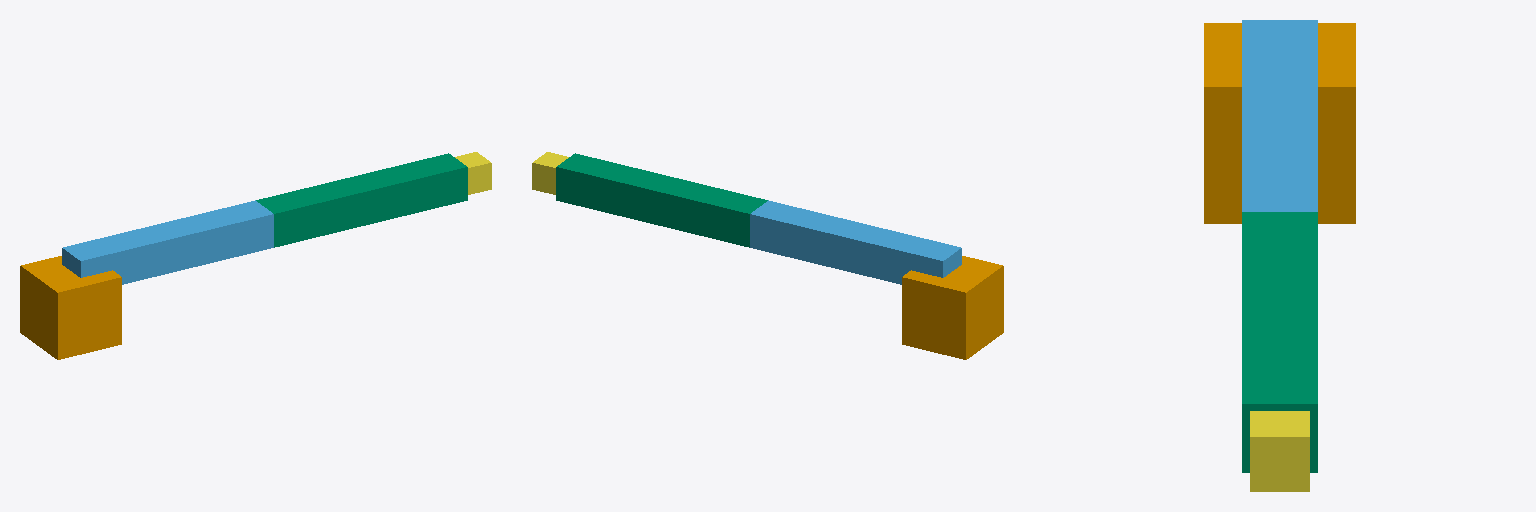
robot.urdf — test_arm:
<?xml version="1.0" ?>
<!-- Minimal fixed-base 3-DOF arm for the fixed-base robot tests (asset.fix_base_link=True).

     Chain: base_link -> shoulder_joint (hinge, z) -> link1 -> elbow_joint (hinge, y) -> link2
            -> slide_joint (prismatic, x) -> slider.
     base_link is the welded URDF root with no joint to the world.
     The matching MJCF root body is jointless (see test_arm.xml). Link order here equals the MJCF
     DFS body order: [base_link, link1, link2, slider]; joint order [shoulder_joint, elbow_joint,
     slide_joint]. Joint limits/effort/velocity equal the test_arm_fixed preset lists exactly.

     base_link is a 0.1 m cube from z=0 to z=0.1 in its own frame; the arm leaves the shoulder at
     z=0.1 and points along +x, so at the zero pose the tip sits ~0.63 m from the base origin and
     drops under gravity (elbow) when unactuated. All inertias are the analytic box values MuJoCo
     derives from the same geoms in test_arm.xml. -->
<robot name="test_arm">
  <link name="base_link">
    <inertial>
      <origin xyz="0 0 0.05"/>
      <mass value="2.0"/>
      <inertia ixx="0.0033333" ixy="0" ixz="0" iyy="0.0033333" iyz="0" izz="0.0033333"/>
    </inertial>
    <visual>
      <origin rpy="0 0 0" xyz="0 0 0.05"/>
      <geometry><box size="0.1 0.1 0.1"/></geometry>
    </visual>
    <collision>
      <origin rpy="0 0 0" xyz="0 0 0.05"/>
      <geometry><box size="0.1 0.1 0.1"/></geometry>
    </collision>
  </link>

  <joint name="shoulder_joint" type="revolute">
    <parent link="base_link"/>
    <child link="link1"/>
    <origin rpy="0 0 0" xyz="0 0 0.1"/>
    <axis xyz="0 0 1"/>
    <limit lower="-1.5" upper="1.5" effort="20" velocity="10"/>
  </joint>

  <link name="link1">
    <inertial>
      <origin xyz="0.15 0 0"/>
      <mass value="1.0"/>
      <inertia ixx="0.00041667" ixy="0" ixz="0" iyy="0.0077083" iyz="0" izz="0.0077083"/>
    </inertial>
    <visual>
      <origin rpy="0 0 0" xyz="0.15 0 0"/>
      <geometry><box size="0.3 0.05 0.05"/></geometry>
    </visual>
    <collision>
      <origin rpy="0 0 0" xyz="0.15 0 0"/>
      <geometry><box size="0.3 0.05 0.05"/></geometry>
    </collision>
  </link>

  <joint name="elbow_joint" type="revolute">
    <parent link="link1"/>
    <child link="link2"/>
    <origin rpy="0 0 0" xyz="0.3 0 0"/>
    <axis xyz="0 1 0"/>
    <limit lower="-1.5" upper="1.5" effort="20" velocity="10"/>
  </joint>

  <link name="link2">
    <inertial>
      <origin xyz="0.15 0 0"/>
      <mass value="1.0"/>
      <inertia ixx="0.00041667" ixy="0" ixz="0" iyy="0.0077083" iyz="0" izz="0.0077083"/>
    </inertial>
    <visual>
      <origin rpy="0 0 0" xyz="0.15 0 0"/>
      <geometry><box size="0.3 0.05 0.05"/></geometry>
    </visual>
    <collision>
      <origin rpy="0 0 0" xyz="0.15 0 0"/>
      <geometry><box size="0.3 0.05 0.05"/></geometry>
    </collision>
  </link>

  <joint name="slide_joint" type="prismatic">
    <parent link="link2"/>
    <child link="slider"/>
    <origin rpy="0 0 0" xyz="0.3 0 0"/>
    <axis xyz="1 0 0"/>
    <limit lower="0.0" upper="0.05" effort="50" velocity="1"/>
  </joint>

  <link name="slider">
    <inertial>
      <origin xyz="0.02 0 0"/>
      <mass value="0.1"/>
      <inertia ixx="0.000026667" ixy="0" ixz="0" iyy="0.000026667" iyz="0" izz="0.000026667"/>
    </inertial>
    <visual>
      <origin rpy="0 0 0" xyz="0.02 0 0"/>
      <geometry><box size="0.04 0.04 0.04"/></geometry>
    </visual>
    <collision>
      <origin rpy="0 0 0" xyz="0.02 0 0"/>
      <geometry><box size="0.04 0.04 0.04"/></geometry>
    </collision>
  </link>
</robot>

--- Facts derived from the render (not from the file) ---
3 views of the same robot in one strip: view 1: azimuth 30°, elevation 25°; view 2: azimuth 150°, elevation 25°; view 3: azimuth 270°, elevation 25° (orthographic).
Model test_arm with 4 links and 3 joints (2 revolute, 1 prismatic), rooted at base_link, posed all joints at 0.
Links seen in each view (by area): view 1: link2, link1, base_link, slider; view 2: link2, link1, base_link, slider; view 3: link2, base_link, link1, slider.
Boxes of the visible links, x1=… form: link2: x1=256, y1=153, x2=467, y2=247; link1: x1=62, y1=200, x2=273, y2=284; base_link: x1=20, y1=256, x2=121, y2=359; slider: x1=455, y1=152, x2=491, y2=194; link2: x1=556, y1=153, x2=767, y2=247; link1: x1=750, y1=200, x2=961, y2=284; base_link: x1=902, y1=256, x2=1003, y2=359; slider: x1=532, y1=152, x2=568, y2=194; link2: x1=1242, y1=212, x2=1317, y2=472; base_link: x1=1204, y1=23, x2=1355, y2=223; link1: x1=1242, y1=20, x2=1317, y2=211; slider: x1=1250, y1=411, x2=1309, y2=491.
Bounding box of the posed robot: 0.69 × 0.1 × 0.125 m (x, y, z).
Geometry: primitives only (box / cylinder / sphere), no mesh files.
